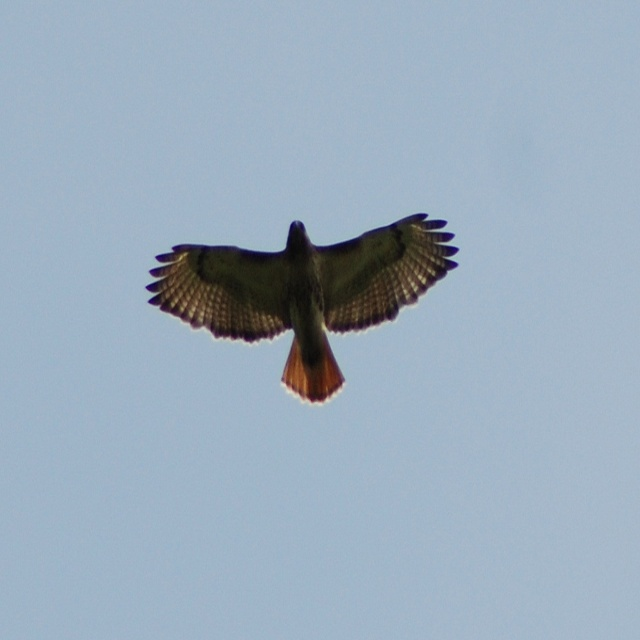Eagle: (141, 207, 461, 411)
